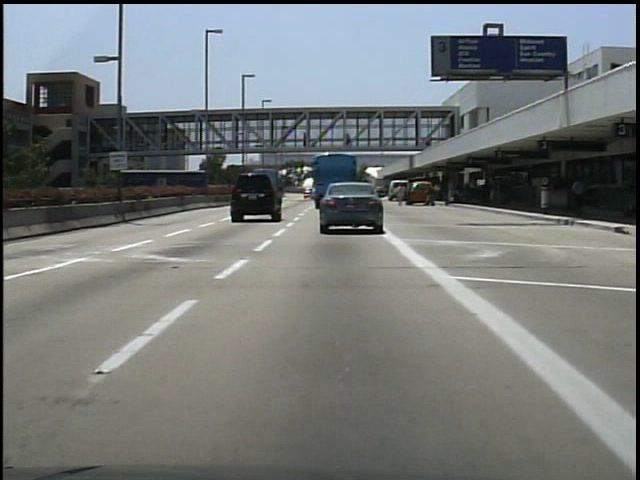person: (570, 172, 590, 218), (424, 178, 441, 210), (393, 180, 410, 209), (342, 131, 355, 153), (300, 128, 314, 148)
